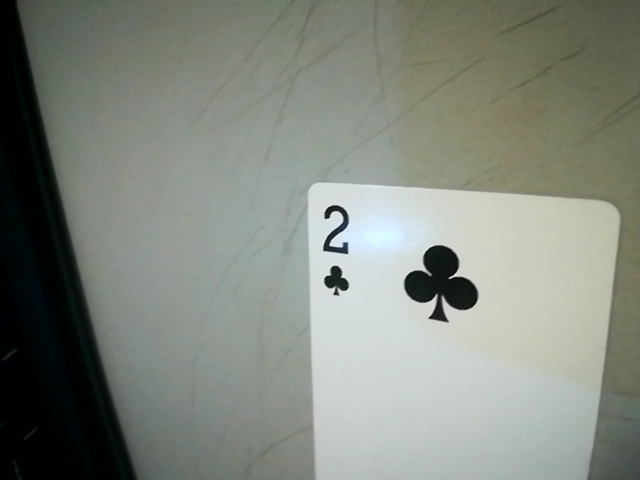mh 2: (305, 194, 361, 304)
